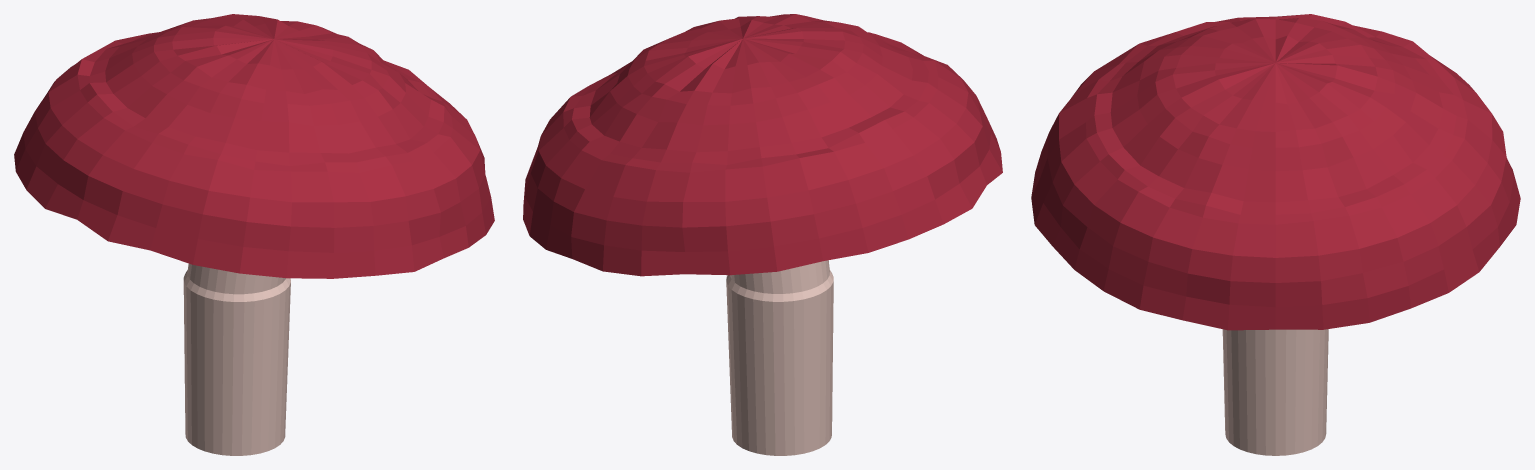
The model's file is Red Mushroom 2.fbx.
3 views of the same model, side by side, from view 1: azimuth 30°, elevation 25°; view 2: azimuth 150°, elevation 25°; view 3: azimuth 270°, elevation 25° (orthographic).
Parts seen in each view (by area): view 1: Mushroom1.2; view 2: Mushroom1.2; view 3: Mushroom1.2.
Boxes of the visible parts, x1,y1,x2,y2 form: Mushroom1.2: [14, 14, 494, 455]; Mushroom1.2: [523, 14, 1002, 455]; Mushroom1.2: [1031, 14, 1520, 455].
Bounding box in the file's own units: 960 × 858 × 970.
